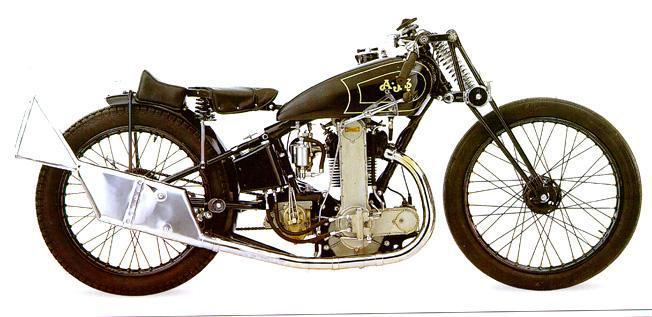motorcycle: (1, 3, 649, 303)
